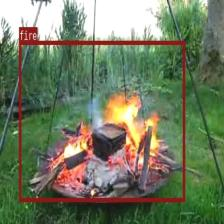fire: (18, 40, 184, 202)
